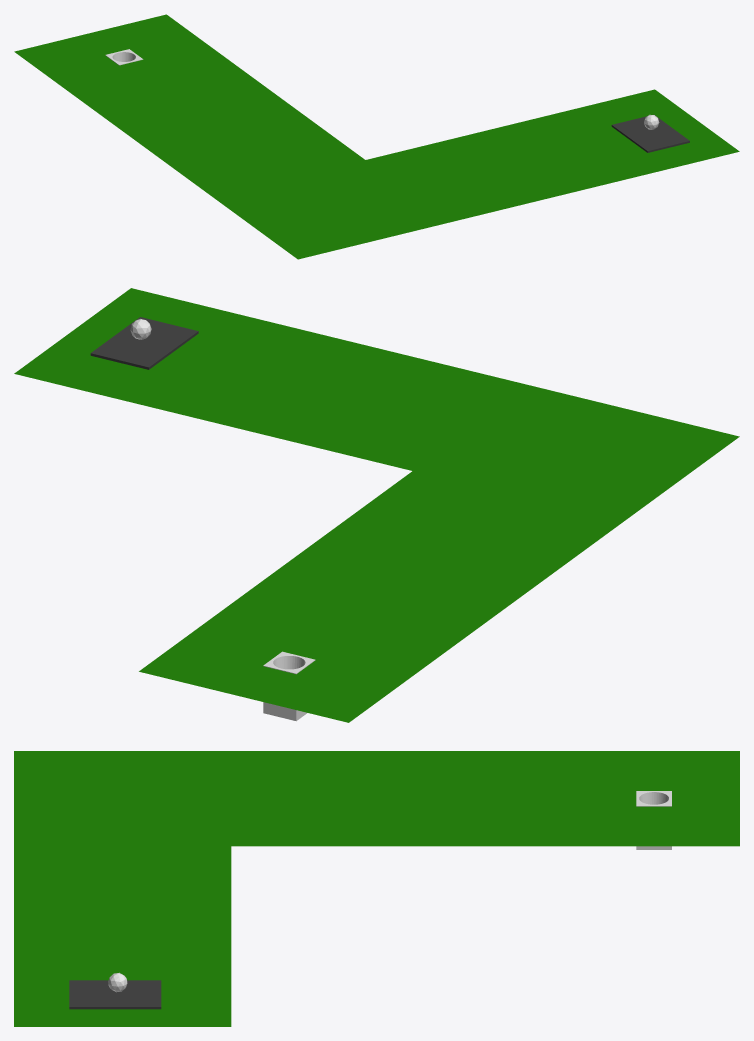
File: boilerplate_level_2.glb
3 renders of one model, top to bottom at view 1: azimuth 30°, elevation 25°; view 2: azimuth 150°, elevation 25°; view 3: azimuth 270°, elevation 25°, orthographic. The views are drawn at different scales.
Visible parts, largest first — view 1: Plane, Start; view 2: Plane, Start, Cup; view 3: Plane, Start, Cup.
Boxes of the visible parts, bbox=[...] form: Plane: bbox=[14, 14, 739, 259]; Start: bbox=[611, 114, 689, 152]; Plane: bbox=[14, 288, 739, 722]; Start: bbox=[90, 317, 198, 369]; Cup: bbox=[263, 651, 315, 721]; Plane: bbox=[14, 751, 739, 1026]; Start: bbox=[69, 980, 161, 1009]; Cup: bbox=[636, 791, 671, 849].
Size of the model in its own units: 55.9 by 6.34 by 62.2.
